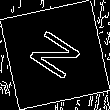N_SE: (23, 24, 87, 86)
